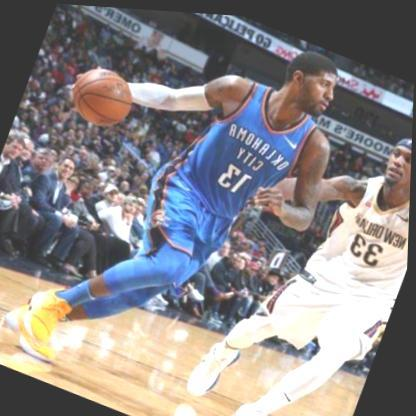basketball: (64, 57, 141, 134)
